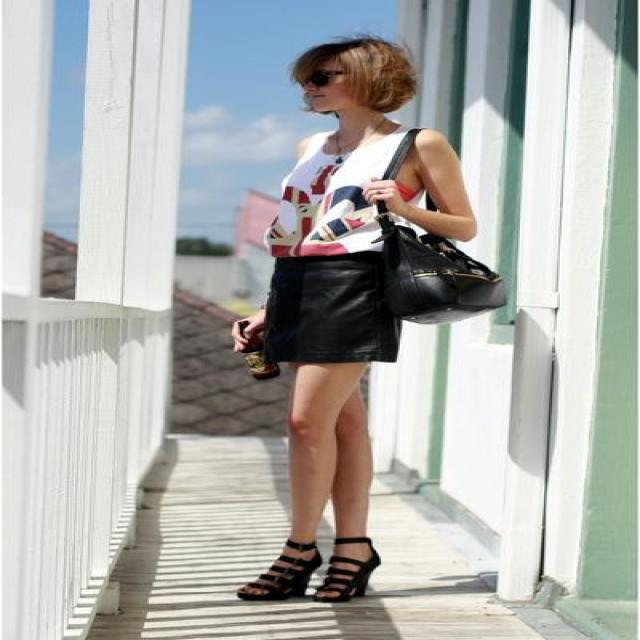bag: (368, 218, 498, 319)
shirt: (266, 130, 440, 263)
shoe: (237, 524, 379, 602)
skirt: (238, 250, 402, 364)
sunglass: (293, 44, 341, 87)
